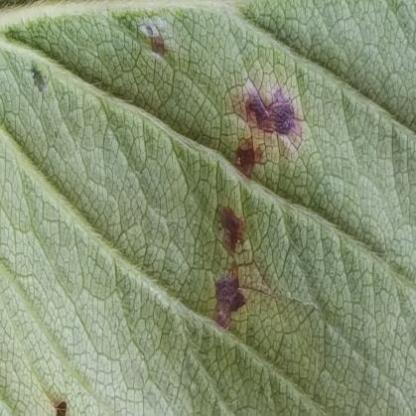Strawberry_Angular_LeafSpot: (27, 15, 308, 338)
